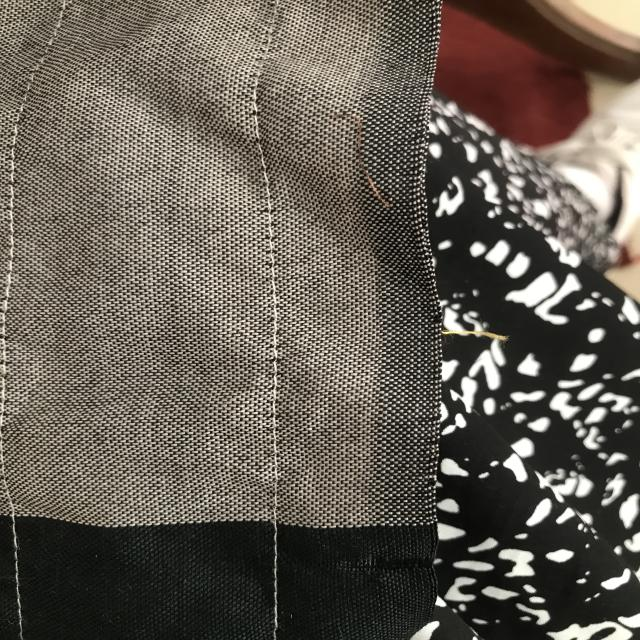good: (253, 266, 294, 500), (255, 530, 300, 630), (6, 523, 34, 606)
